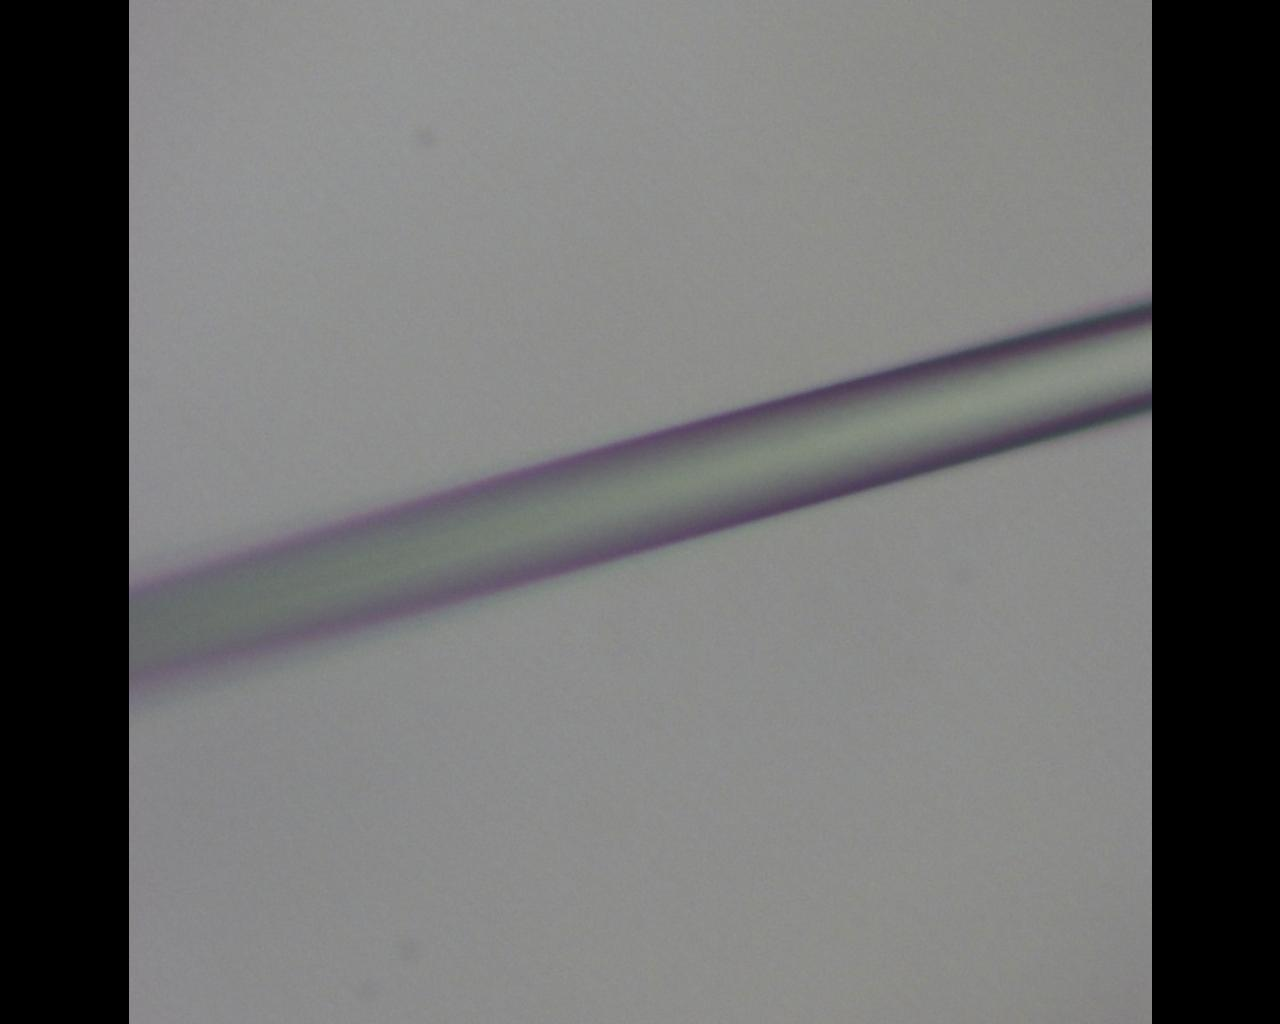fiber: (578, 0, 629, 1024)
